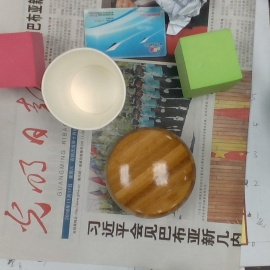card: (83, 5, 169, 59)
chess: (111, 128, 197, 217)
cup: (43, 49, 126, 130)
